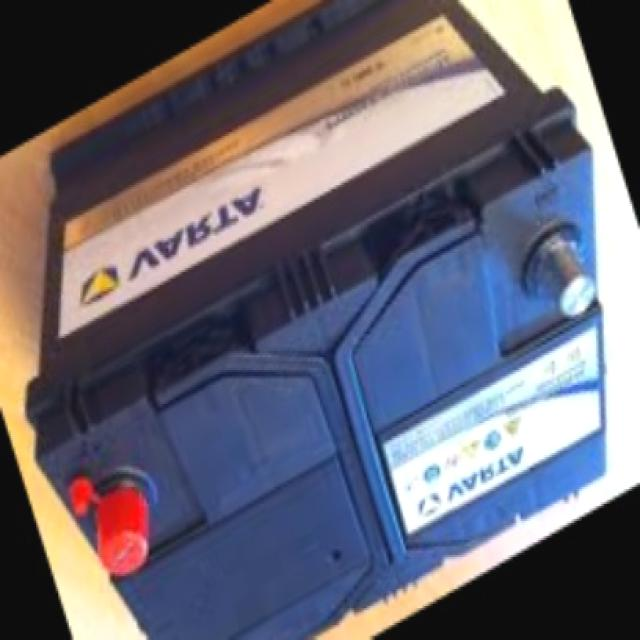B3: (428, 0, 428, 1)
elektronik: (32, 5, 604, 631)
